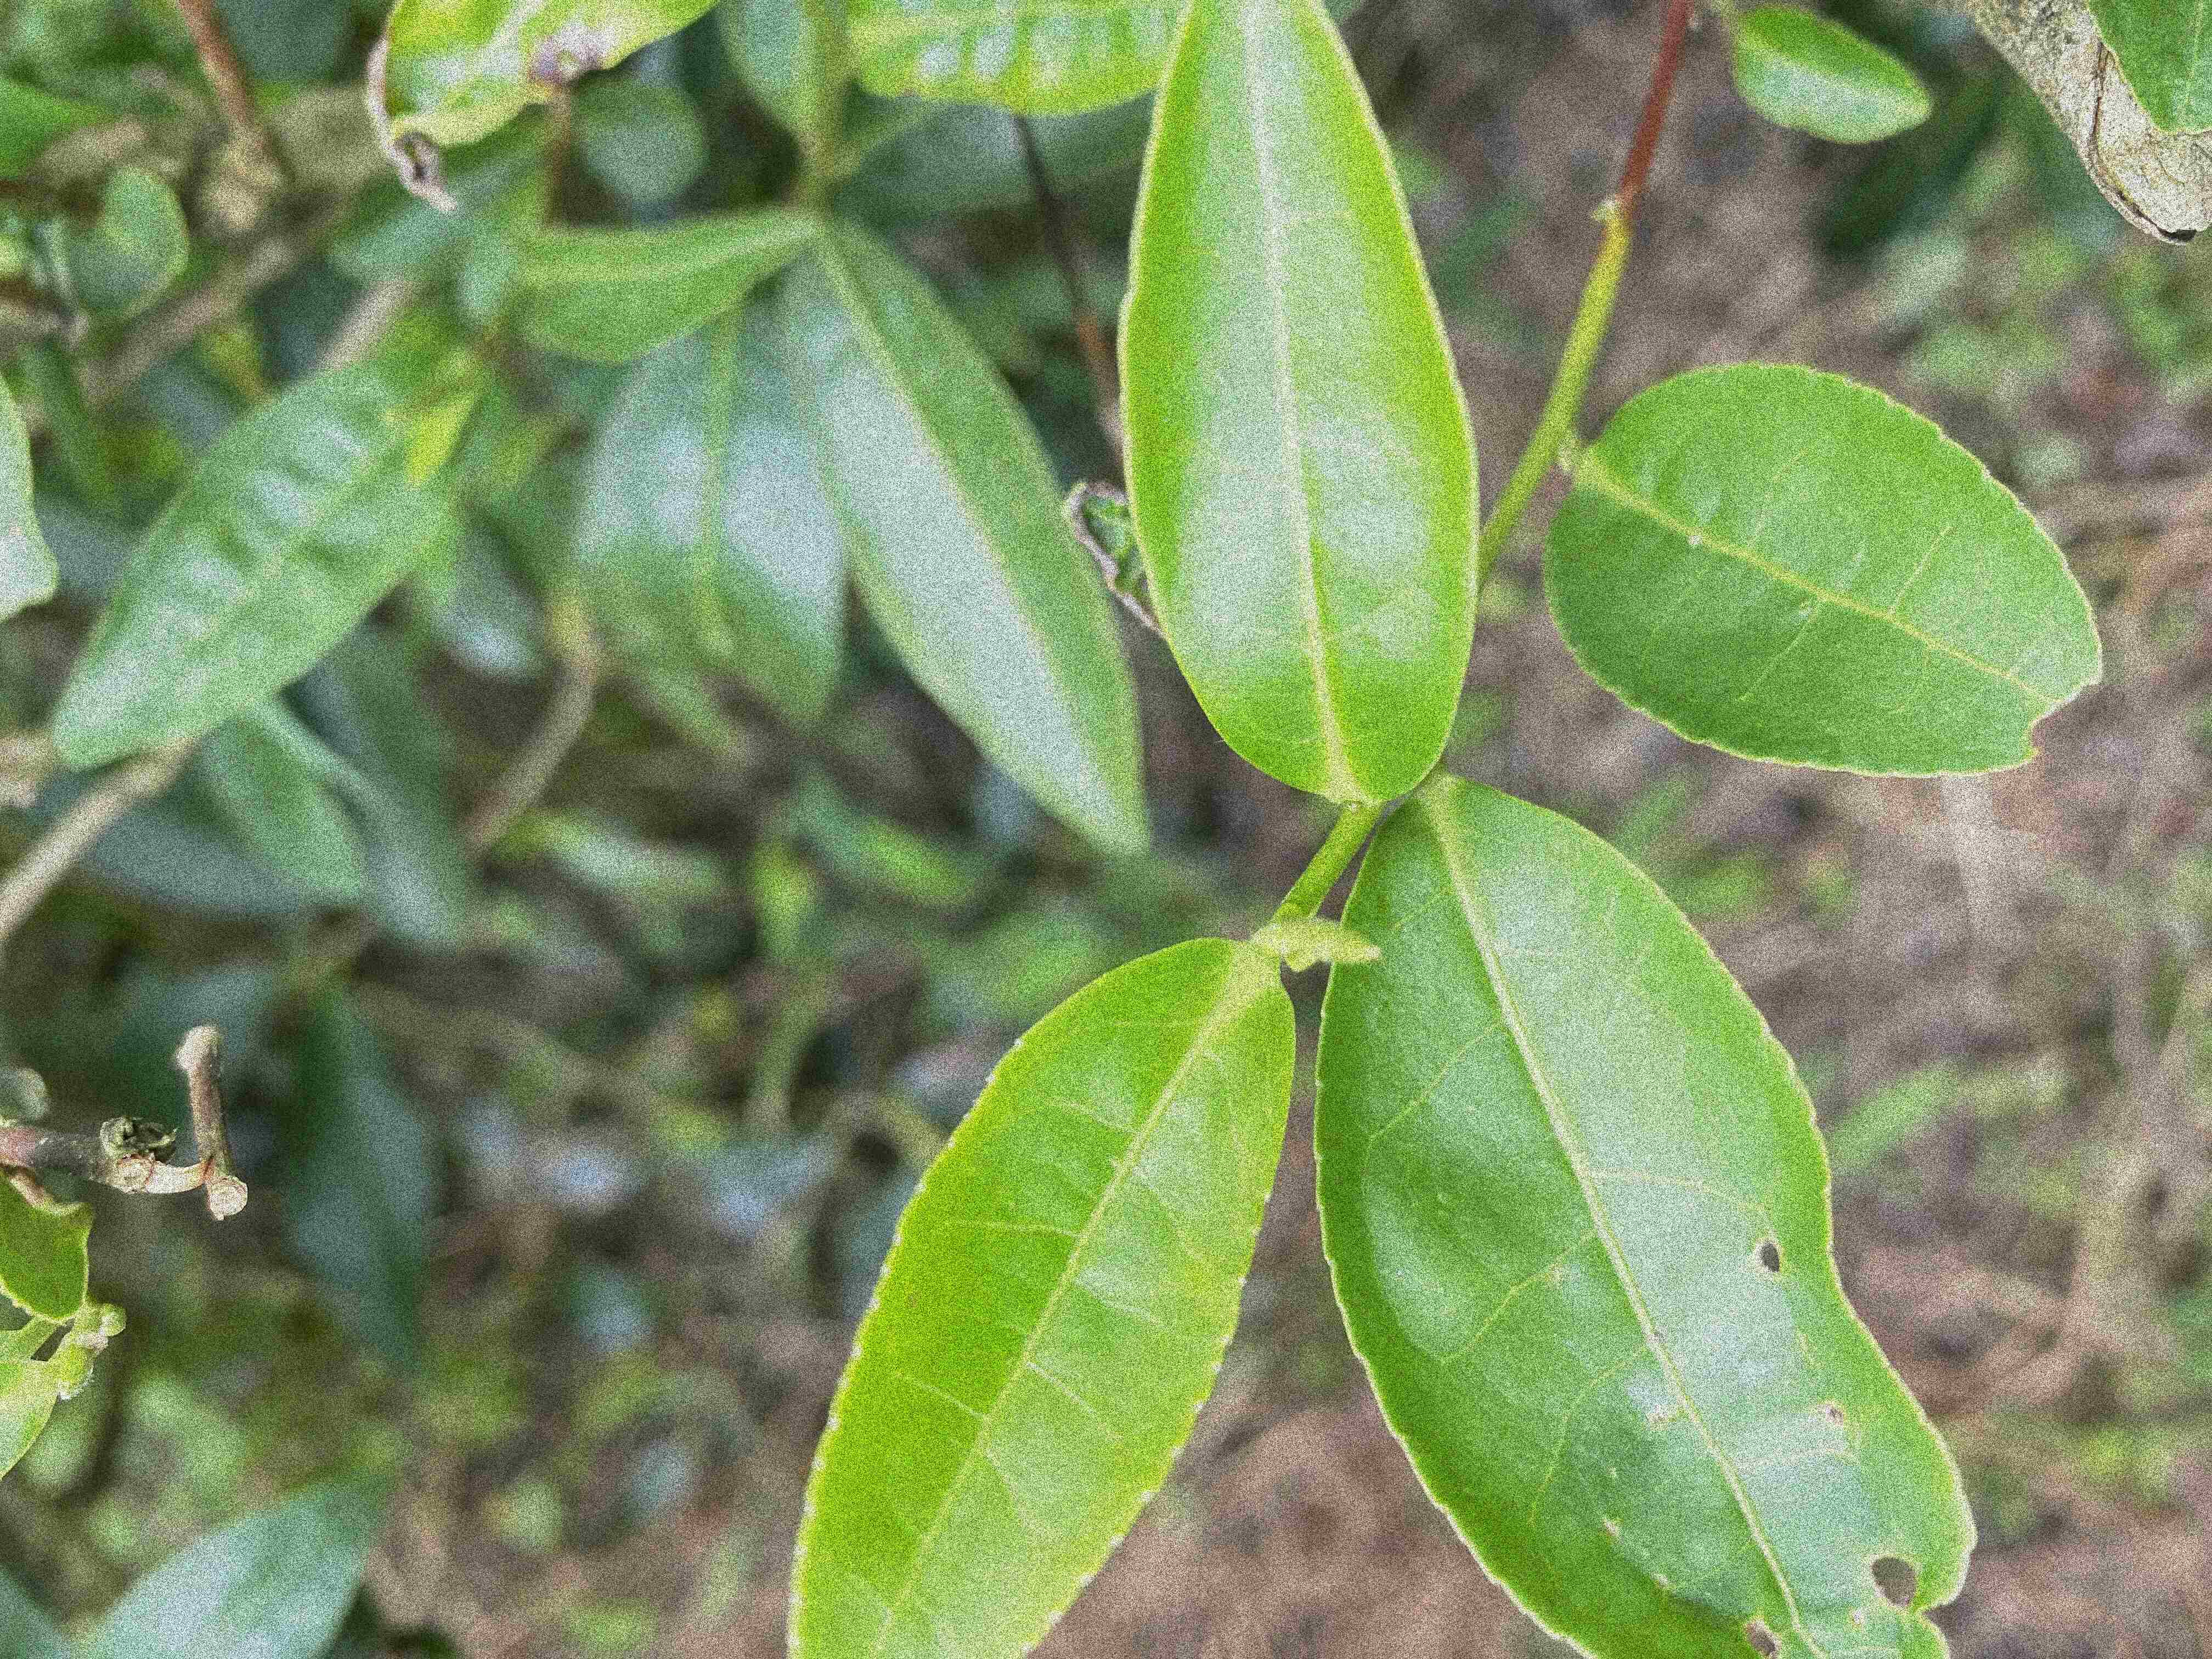chihuo_high: (1315, 774, 1977, 1656)
chihuo_low: (1541, 361, 2107, 779)
healthy: (787, 936, 1299, 1656), (1118, 2, 1482, 810)
tanju_high: (361, 3, 723, 220)
